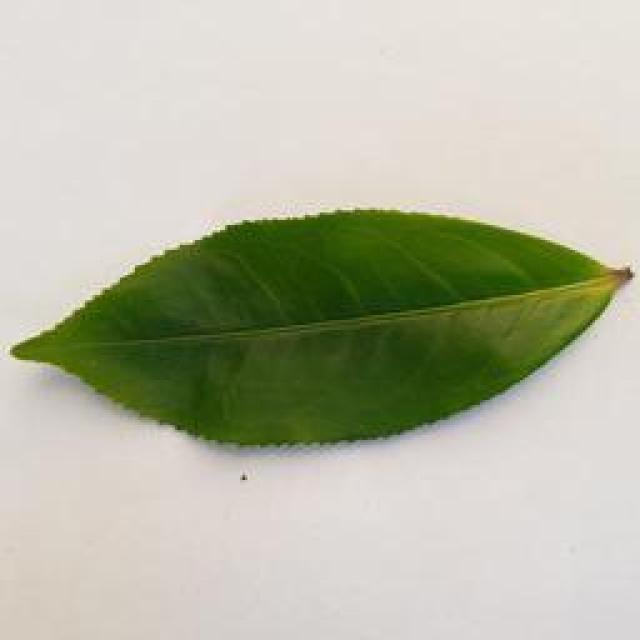Healthy: (10, 196, 640, 444)
